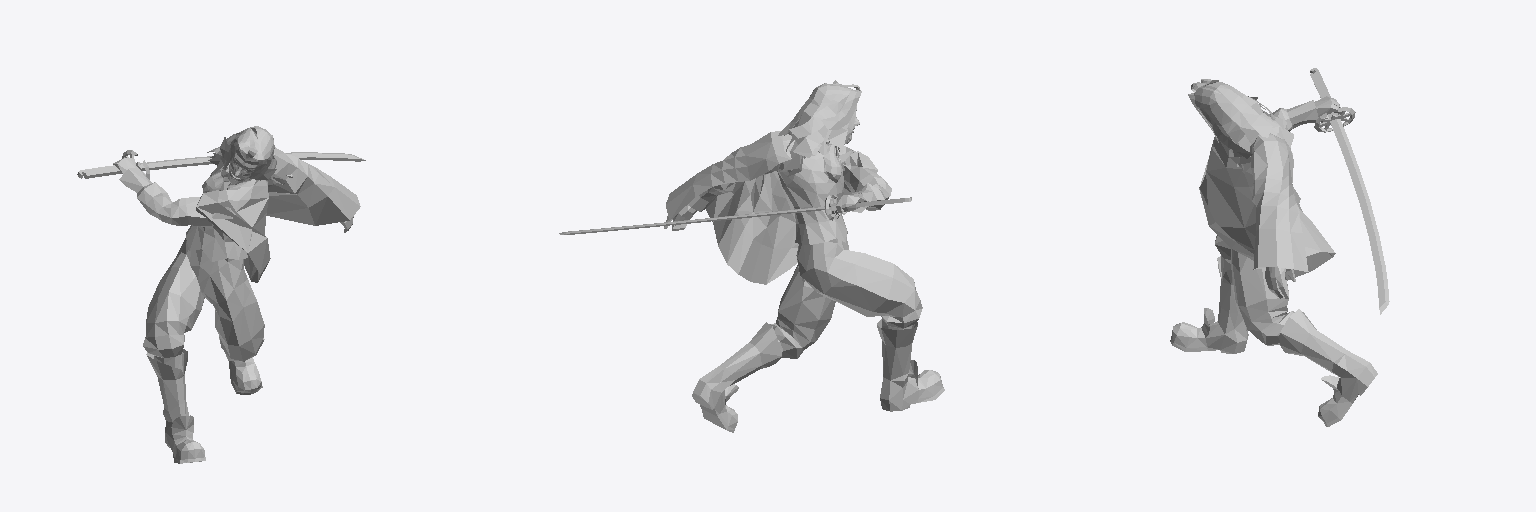
The model's file is dun_attack_1_000031.obj.
3 views of the same model, side by side, from view 1: azimuth 30°, elevation 25°; view 2: azimuth 150°, elevation 25°; view 3: azimuth 270°, elevation 25° (orthographic).
Parts seen in each view (by area): view 1: GamemodelShape.001, GamemodelShape1.001; view 2: GamemodelShape.001, GamemodelShape1.001, GamemodelShape2.001; view 3: GamemodelShape.001, GamemodelShape1.001, GamemodelShape2.001.
Part boxes in pixels (left/top/right/bottom): GamemodelShape.001: left=77, top=147, right=365, bottom=463; GamemodelShape1.001: left=207, top=126, right=276, bottom=181; GamemodelShape.001: left=559, top=131, right=944, bottom=432; GamemodelShape1.001: left=771, top=80, right=861, bottom=176; GamemodelShape2.001: left=664, top=193, right=867, bottom=230; GamemodelShape.001: left=1170, top=68, right=1389, bottom=426; GamemodelShape1.001: left=1188, top=79, right=1293, bottom=173; GamemodelShape2.001: left=1265, top=96, right=1340, bottom=298.
Bounding box in the file's own units: 4.76 × 4.52 × 2.8.